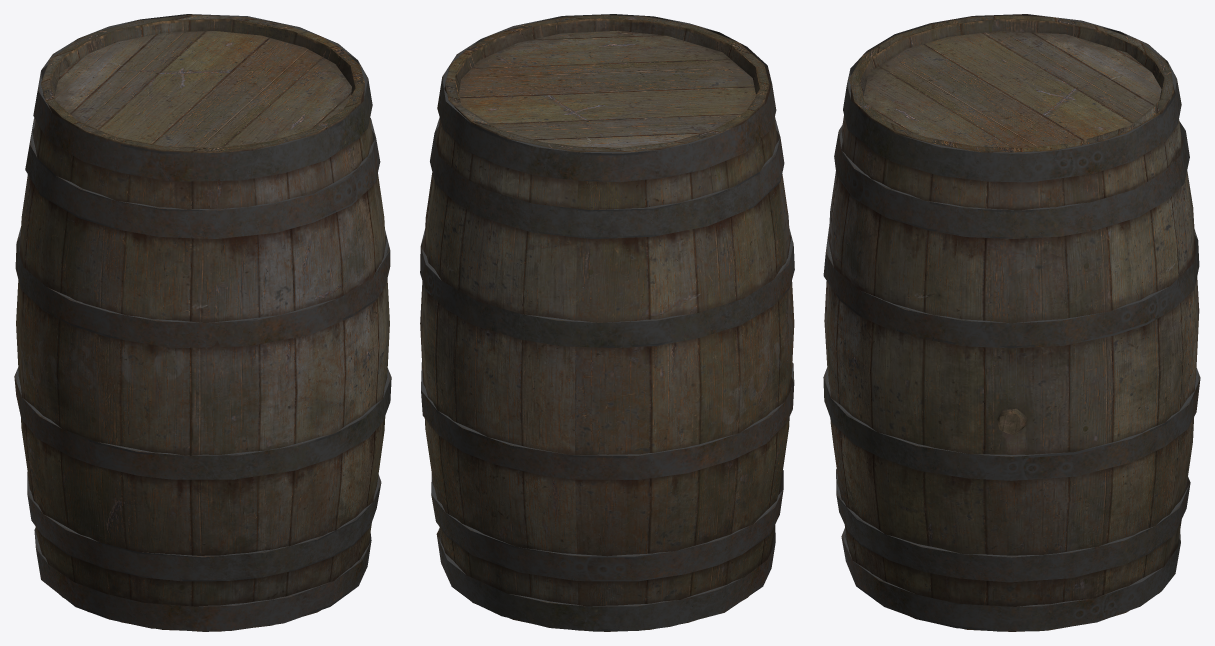
Rendered from SM_barrel_01.fbx.
3 renders of one model, left to right at view 1: azimuth 30°, elevation 25°; view 2: azimuth 150°, elevation 25°; view 3: azimuth 270°, elevation 25°, orthographic.
Visible parts, largest first — view 1: SM_barrel_01_LOD0; view 2: SM_barrel_01_LOD0; view 3: SM_barrel_01_LOD0.
Part boxes in pixels (box(x1,y1,x2,y2)): SM_barrel_01_LOD0: box(14, 14, 391, 631); SM_barrel_01_LOD0: box(420, 14, 794, 631); SM_barrel_01_LOD0: box(823, 14, 1200, 631).
Size of the model in its own units: 84.13 by 82.87 by 117.
1 material, 1 textured.
